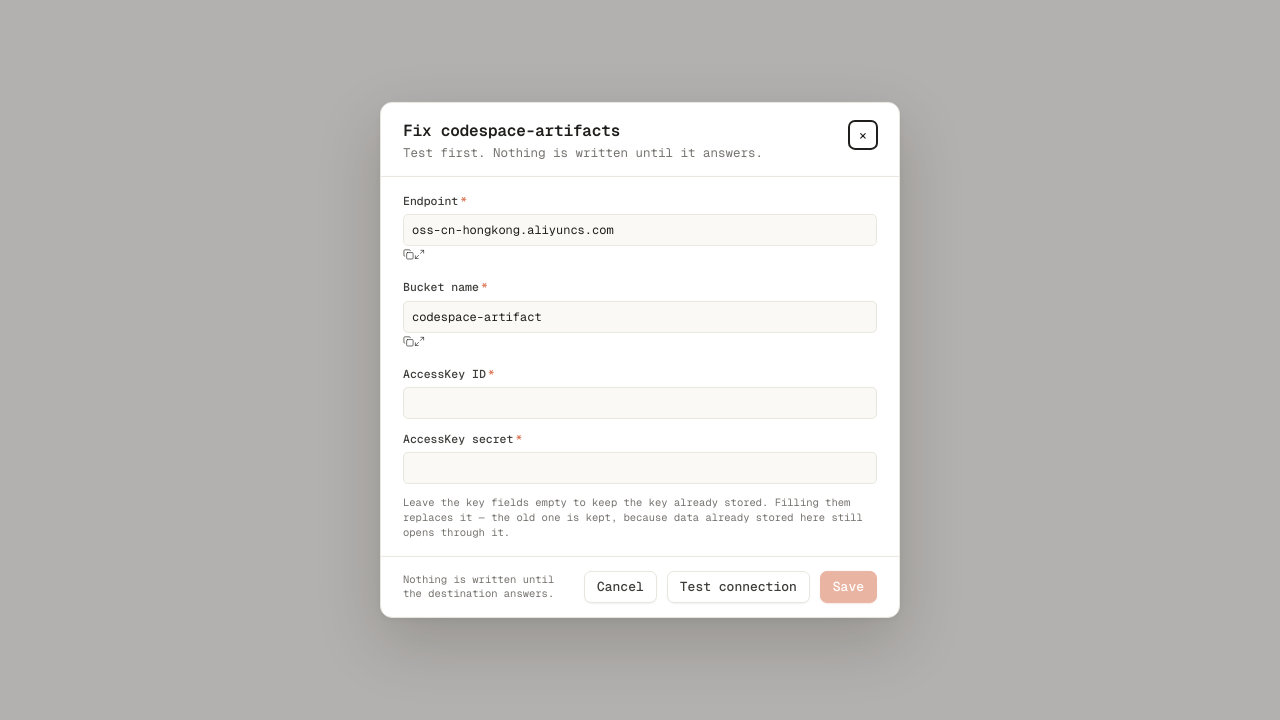
Test: FixConnectionDialog › will not test a changed address with the stored key, and says why
Check: the password field named "AccessKey secret" is shown, box [403,452,877,484]
Clear the field labelled "codespace-artifact" at (640, 316), box [403,300,877,332]
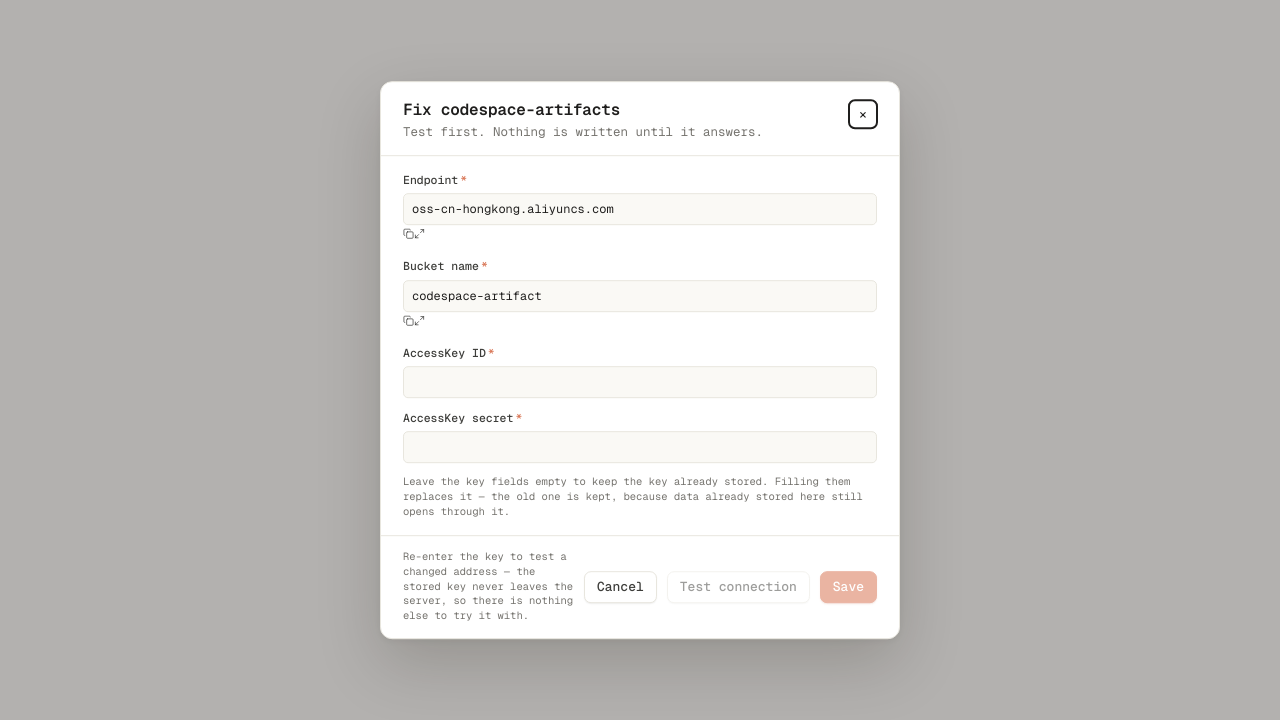
Check: the button "Test connection" is disabled, box [667,571,810,603]
Check: the text "Re-enter the key to test a changed address" is shown, box [403,550,573,623]
